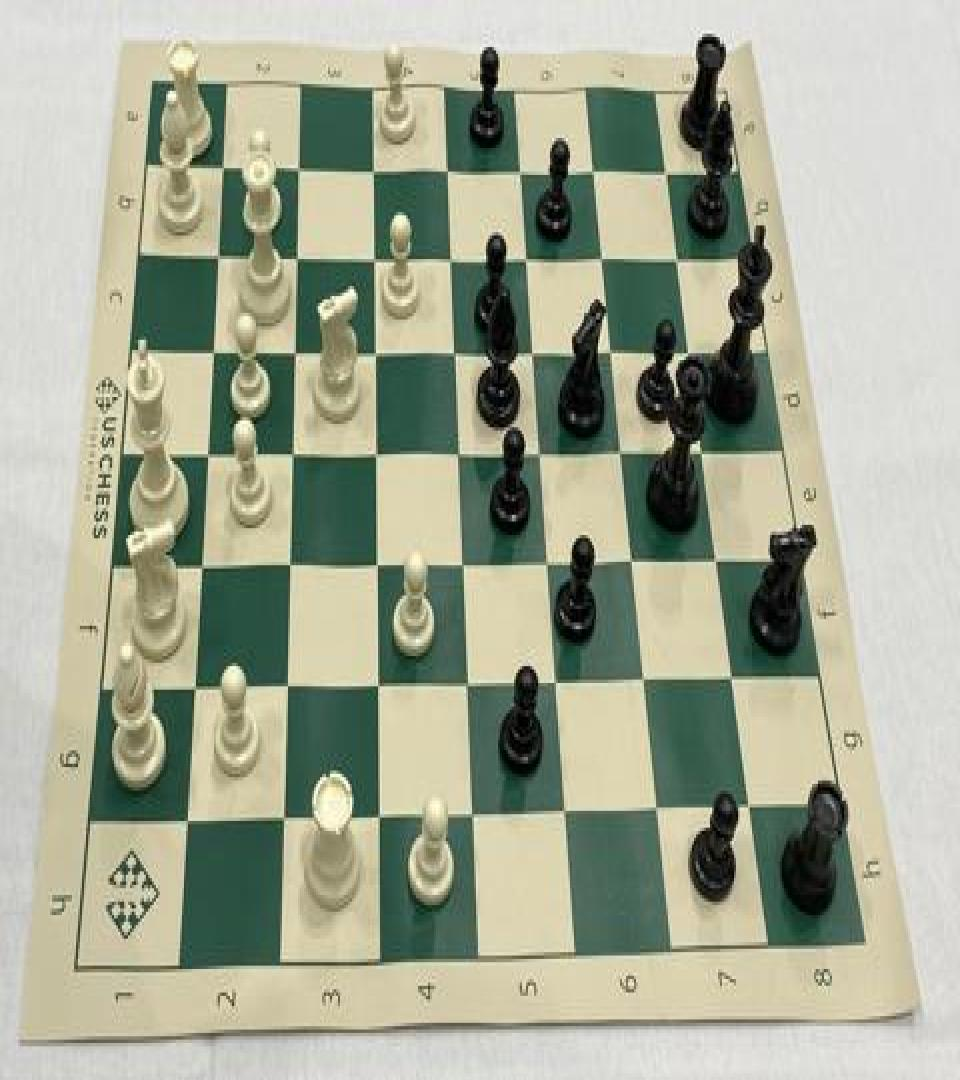xcorner: (708, 538, 730, 576), (190, 546, 212, 584), (368, 664, 390, 702), (288, 148, 310, 185), (212, 148, 234, 185), (669, 239, 691, 276), (594, 237, 616, 274), (518, 237, 540, 274), (441, 237, 463, 274), (364, 237, 386, 274), (286, 237, 308, 274), (208, 237, 230, 274), (694, 431, 716, 468), (613, 432, 635, 469), (531, 432, 553, 469), (449, 432, 471, 469), (366, 434, 388, 471), (282, 434, 304, 471), (624, 540, 646, 577), (367, 545, 389, 582), (279, 545, 301, 582), (723, 656, 745, 693), (636, 658, 658, 695), (458, 663, 480, 700), (276, 666, 298, 703), (184, 668, 206, 705), (740, 784, 762, 821), (556, 789, 578, 826), (463, 792, 485, 829), (176, 801, 198, 838), (657, 152, 679, 188), (585, 152, 607, 188), (512, 150, 534, 186), (438, 150, 460, 186), (363, 150, 385, 186), (681, 332, 703, 368), (603, 332, 625, 368), (524, 332, 546, 368), (445, 332, 467, 368), (365, 332, 387, 368), (284, 332, 306, 368), (202, 332, 224, 368), (197, 436, 219, 472), (539, 542, 561, 578), (453, 544, 475, 580), (547, 660, 569, 696), (648, 788, 670, 824), (369, 796, 391, 832), (273, 798, 295, 834)
